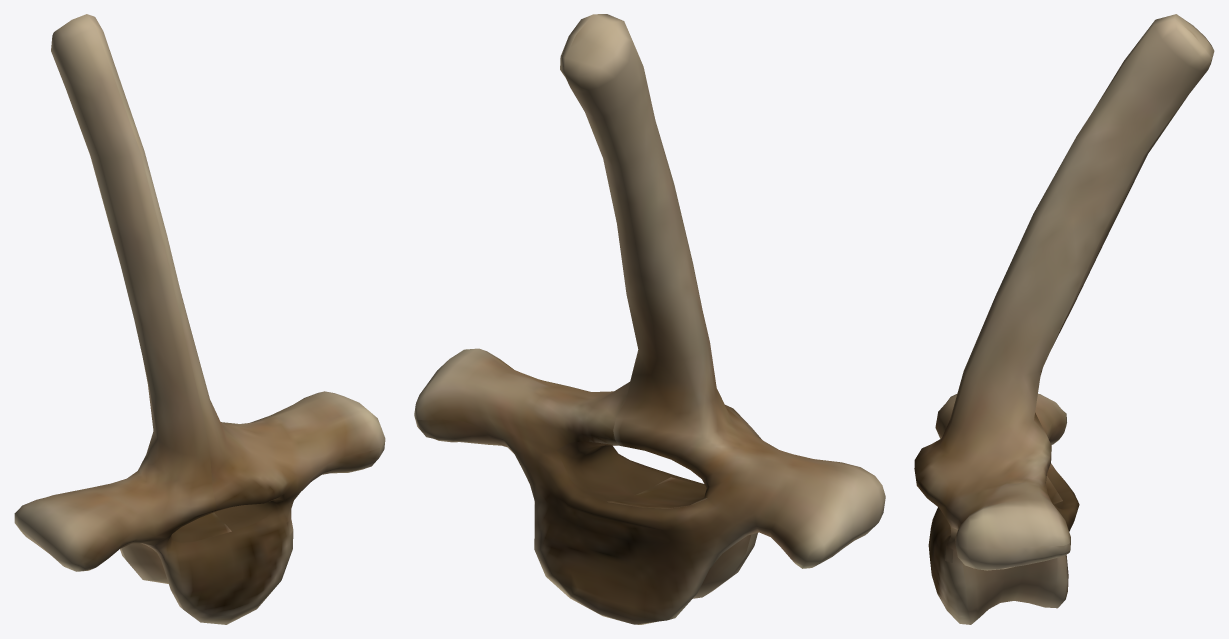
File: Thoracic_Vertebrae6.glb
The picture shows the model from 3 angles, left to right: view 1: azimuth 30°, elevation 25°; view 2: azimuth 150°, elevation 25°; view 3: azimuth 270°, elevation 25°; orthographic projection. The views are drawn at different scales.
Parts seen in each view (by area): view 1: Horse_low:SelSet_23Merged_L_Frt_Sesamoid_Bones_2; view 2: Horse_low:SelSet_23Merged_L_Frt_Sesamoid_Bones_2; view 3: Horse_low:SelSet_23Merged_L_Frt_Sesamoid_Bones_2.
Boxes of the visible parts, x1,y1,x2,y2 form: Horse_low:SelSet_23Merged_L_Frt_Sesamoid_Bones_2: (14,14,385,624); Horse_low:SelSet_23Merged_L_Frt_Sesamoid_Bones_2: (414,14,885,624); Horse_low:SelSet_23Merged_L_Frt_Sesamoid_Bones_2: (914,14,1214,624).
Bounding box in the file's own units: 0.1414 × 0.2179 × 0.1025.
1 material, 1 textured.
